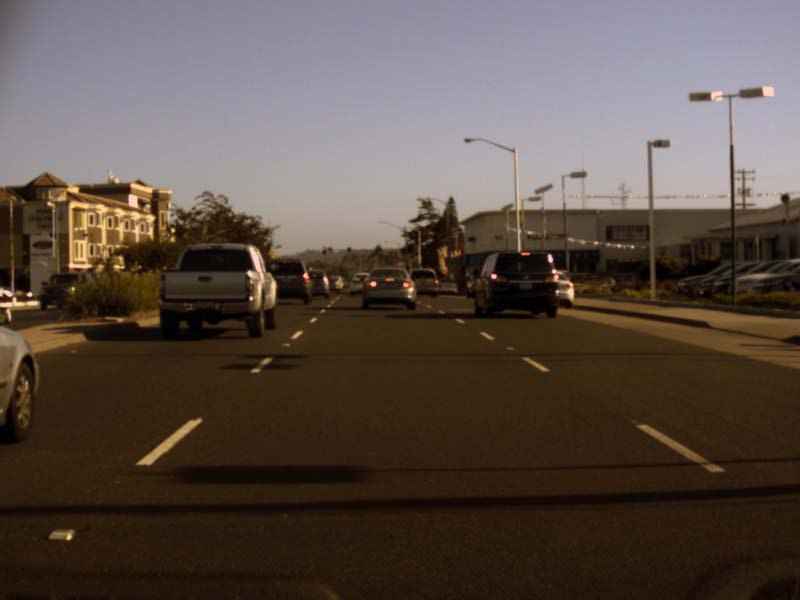Green: (347, 247, 351, 255)
Red: (322, 246, 326, 254)
